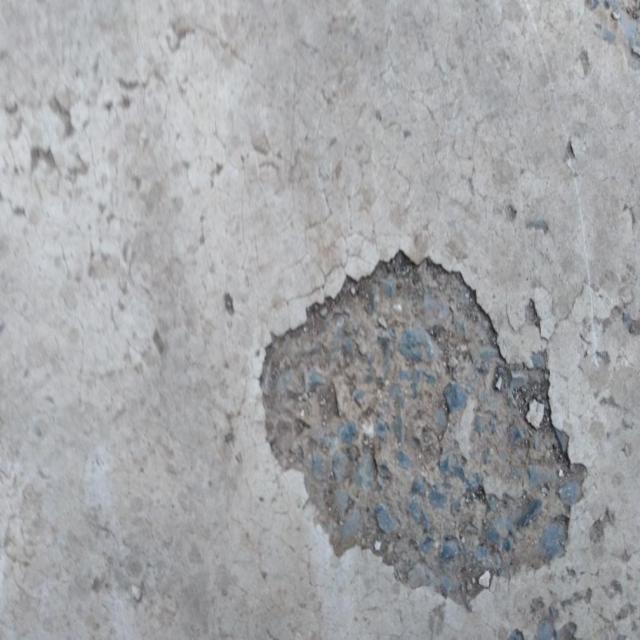concrete spalling: (257, 246, 588, 611), (2, 88, 94, 216), (103, 72, 141, 110), (165, 20, 197, 54)
multi-branched crack: (173, 67, 552, 306), (59, 235, 138, 414)
